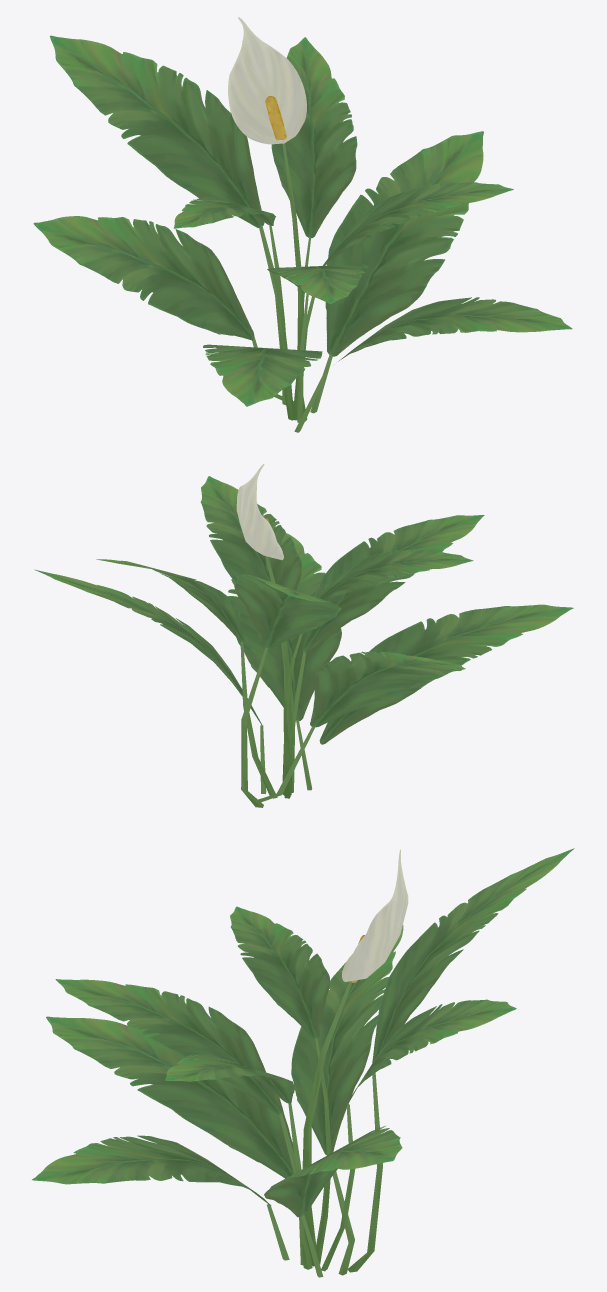
File: SM_EastLands_Spathiphyllum_02.fbx
The picture shows the model from 3 angles, top to bottom: view 1: azimuth 30°, elevation 25°; view 2: azimuth 150°, elevation 25°; view 3: azimuth 270°, elevation 25°; orthographic projection. The views are drawn at different scales.
Parts seen in each view (by area): view 1: SM_EastLands_Spathiphyllum_02_LOD0; view 2: SM_EastLands_Spathiphyllum_02_LOD0; view 3: SM_EastLands_Spathiphyllum_02_LOD0.
Boxes of the visible parts, x1,y1,x2,y2 form: SM_EastLands_Spathiphyllum_02_LOD0: (33, 17, 572, 432); SM_EastLands_Spathiphyllum_02_LOD0: (34, 464, 573, 807); SM_EastLands_Spathiphyllum_02_LOD0: (32, 848, 574, 1277).
Bounding box in the file's own units: 103 × 78.38 × 100.
